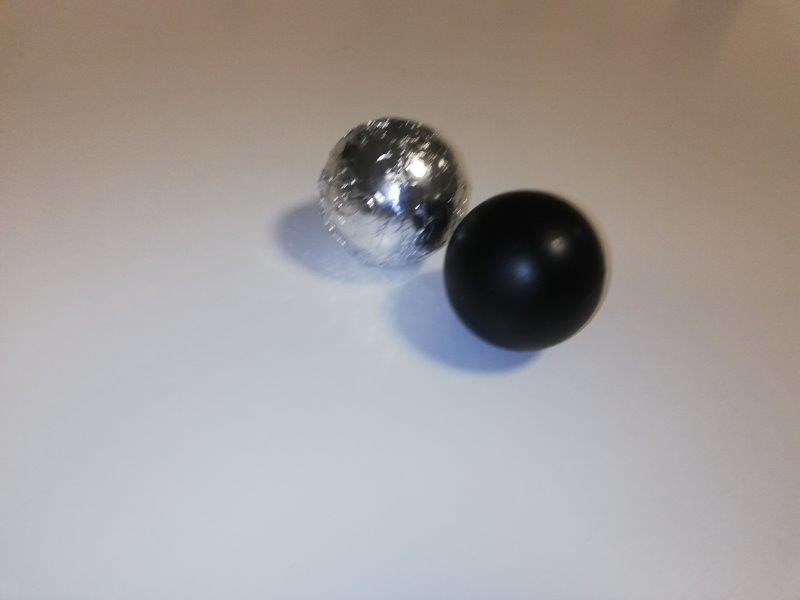bianca: (316, 118, 464, 262)
nera: (442, 187, 610, 355)
